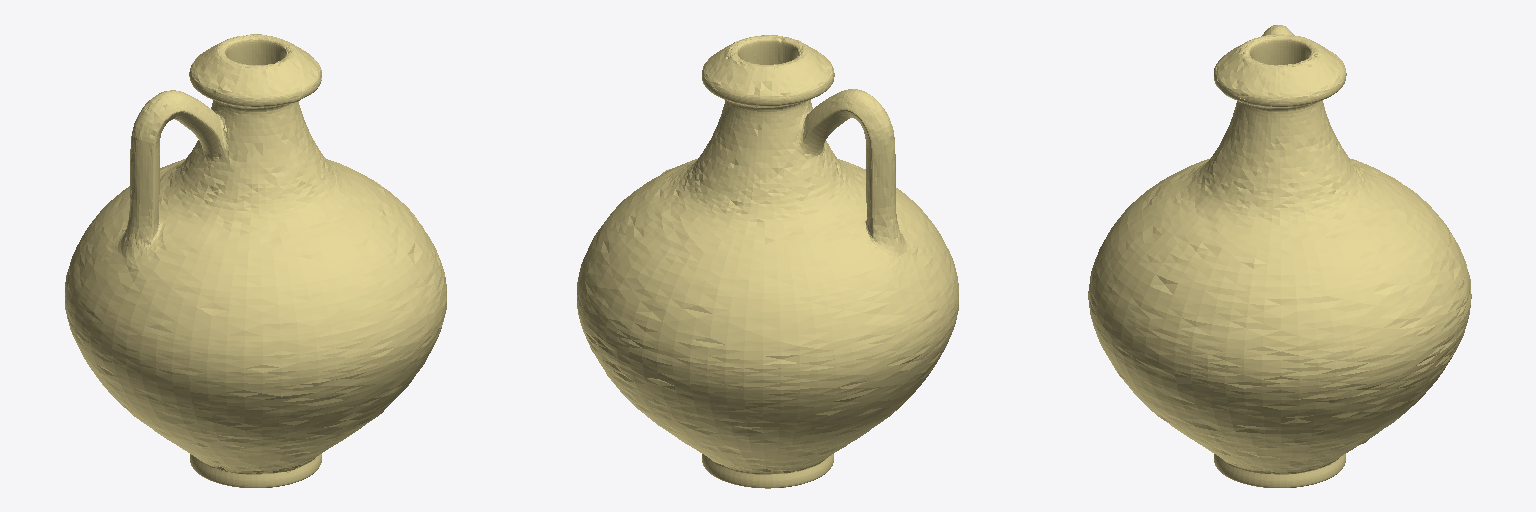
File: roman_pottery_1.obj
3 renders of one model, left to right at view 1: azimuth 30°, elevation 25°; view 2: azimuth 150°, elevation 25°; view 3: azimuth 270°, elevation 25°, orthographic.
Parts seen in each view (by area): view 1: romanpottery1.001; view 2: romanpottery1.001; view 3: romanpottery1.001.
Part boxes in pixels (x1,y1,x2,y2): romanpottery1.001: (65, 34, 446, 487); romanpottery1.001: (577, 35, 958, 488); romanpottery1.001: (1088, 25, 1471, 487).
Bounding box in the file's own units: 0.4416 × 0.5235 × 0.4417.